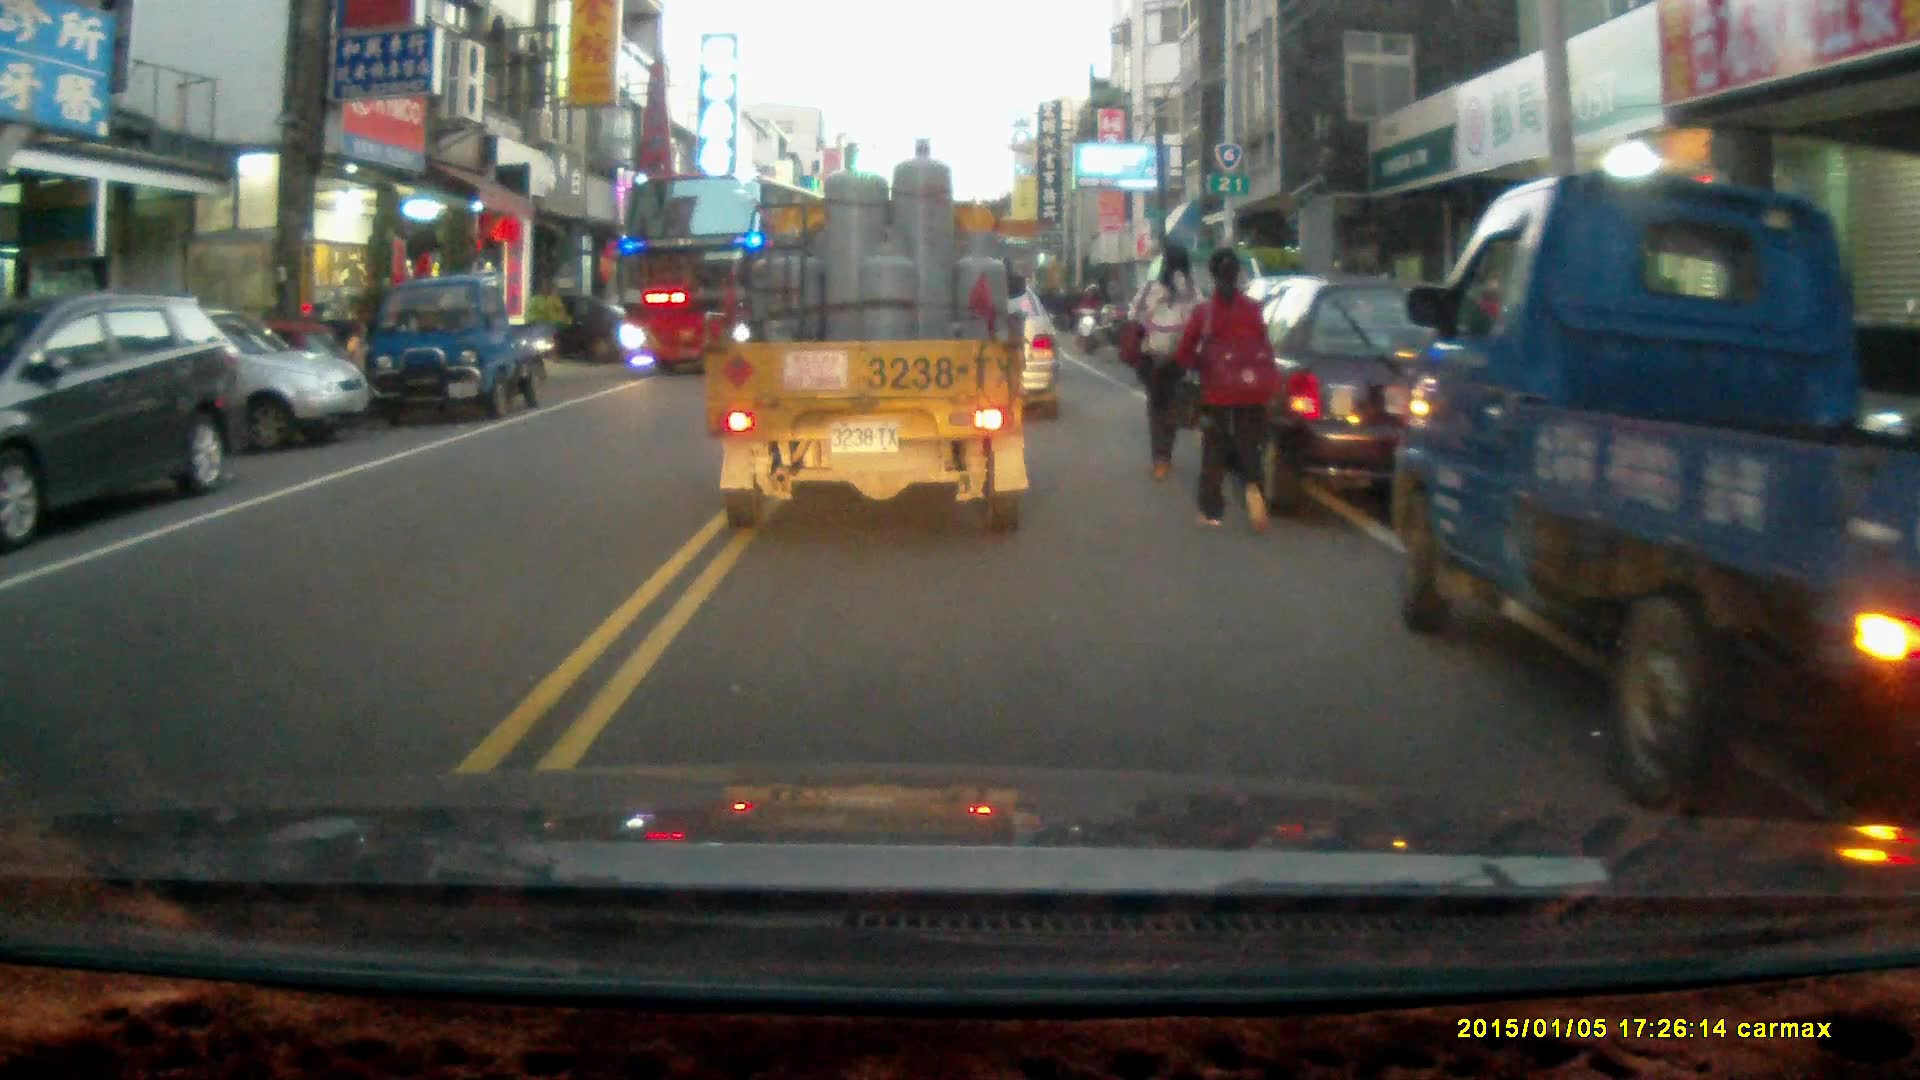pedestrian: (1172, 246, 1286, 537), (1121, 241, 1205, 483)
rider: (1076, 279, 1112, 353)
vehicle: (1390, 166, 1920, 802), (705, 133, 1038, 539), (1222, 277, 1539, 533), (1, 286, 249, 537), (617, 168, 866, 379), (38, 302, 366, 458), (364, 277, 551, 419)
